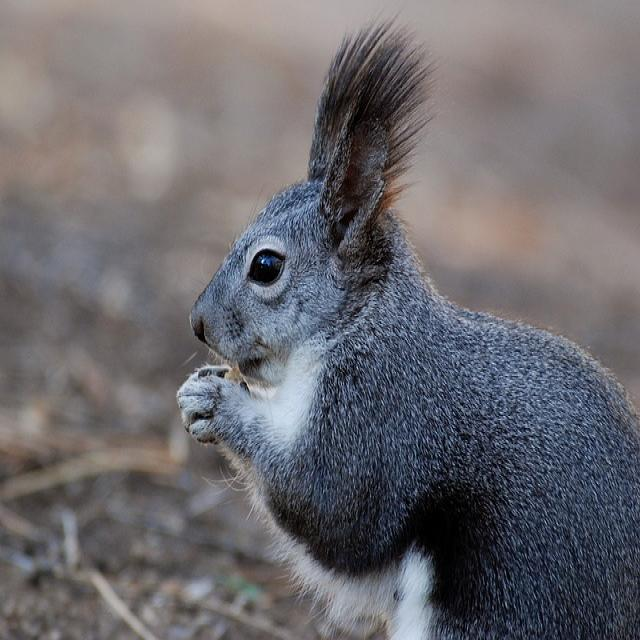Herbivorous: (177, 20, 640, 640)
